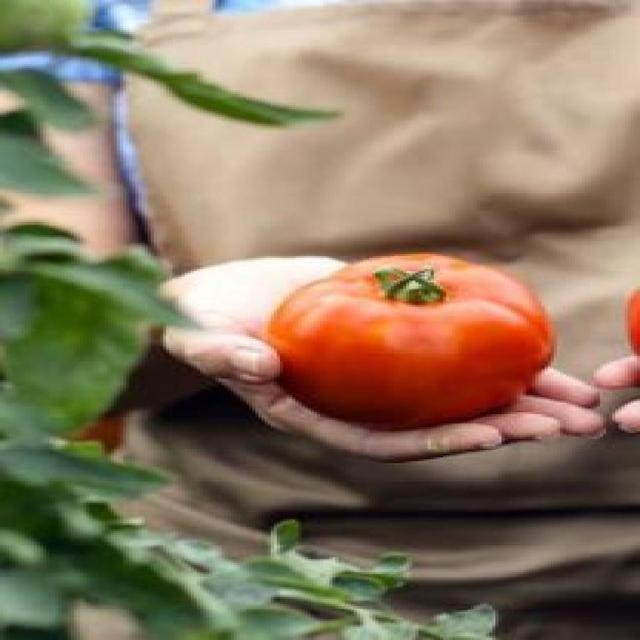Healthy Fruit: (182, 158, 396, 295)
